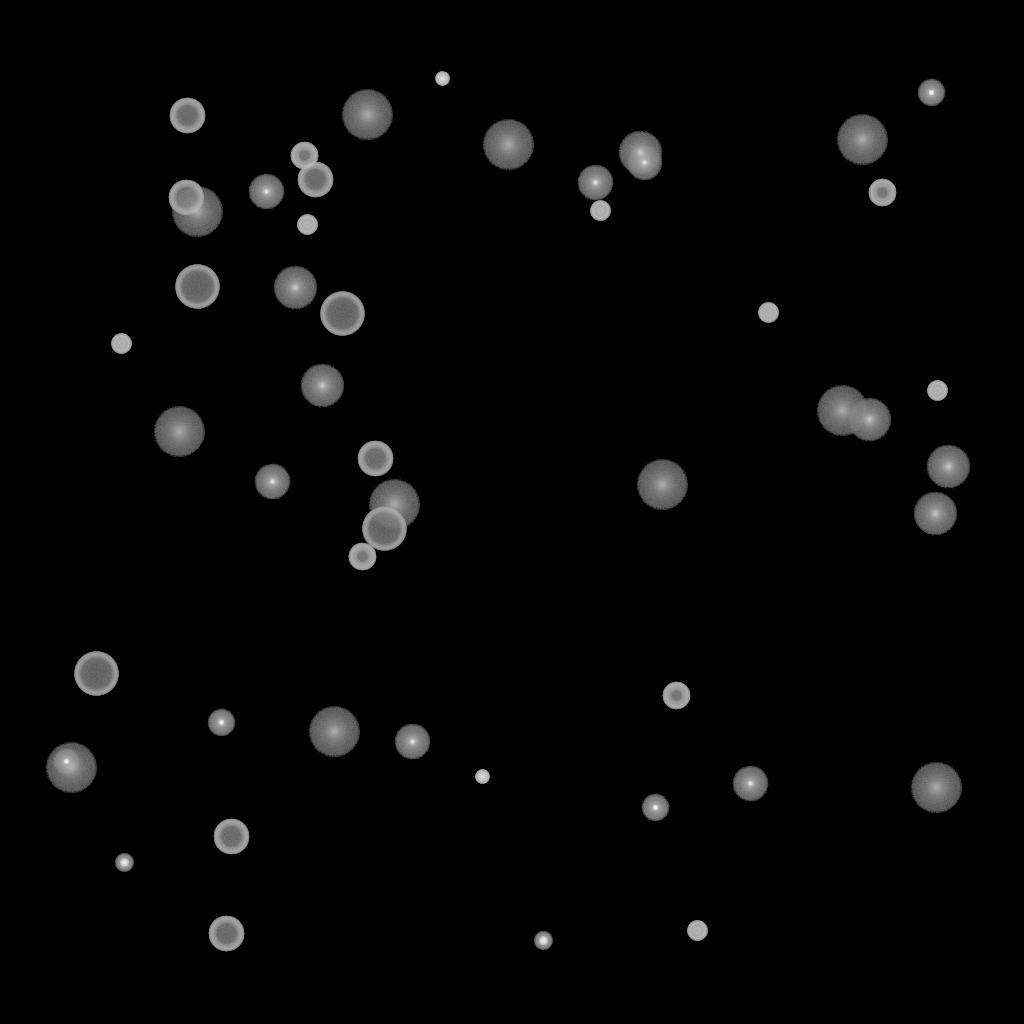depth:-10: (641, 794, 669, 822), (52, 748, 80, 776), (207, 709, 235, 737), (917, 79, 945, 107)
depth:-20: (115, 854, 133, 872), (534, 932, 552, 950)
depth:-30: (475, 770, 489, 784), (435, 72, 449, 86)
depth:-40: (590, 201, 610, 221), (687, 921, 707, 941), (111, 334, 131, 354), (927, 381, 947, 401), (758, 303, 778, 323), (297, 215, 317, 235)
depth:-50: (348, 543, 376, 571), (868, 179, 896, 207), (290, 142, 318, 170), (662, 682, 690, 710)
depth:-60: (213, 819, 249, 855), (169, 98, 205, 134), (297, 162, 333, 198), (168, 180, 204, 216), (357, 441, 393, 477), (208, 916, 244, 952)
depth:-70: (74, 652, 118, 696), (320, 292, 364, 336), (175, 265, 219, 309), (362, 507, 406, 551)
depth:0: (248, 174, 284, 210), (577, 165, 613, 201), (626, 145, 662, 181), (394, 724, 430, 760), (254, 464, 290, 500), (732, 766, 768, 802)
depth:10: (926, 445, 970, 489), (618, 131, 662, 175), (847, 398, 891, 442), (913, 492, 957, 536), (300, 364, 344, 408), (273, 266, 317, 310)
depth:20: (341, 90, 393, 140), (308, 707, 360, 757), (368, 480, 420, 530), (153, 407, 205, 457), (816, 386, 868, 436), (636, 460, 688, 510), (482, 120, 534, 170), (836, 115, 888, 165), (910, 763, 962, 813), (171, 187, 223, 237), (45, 743, 97, 793)
